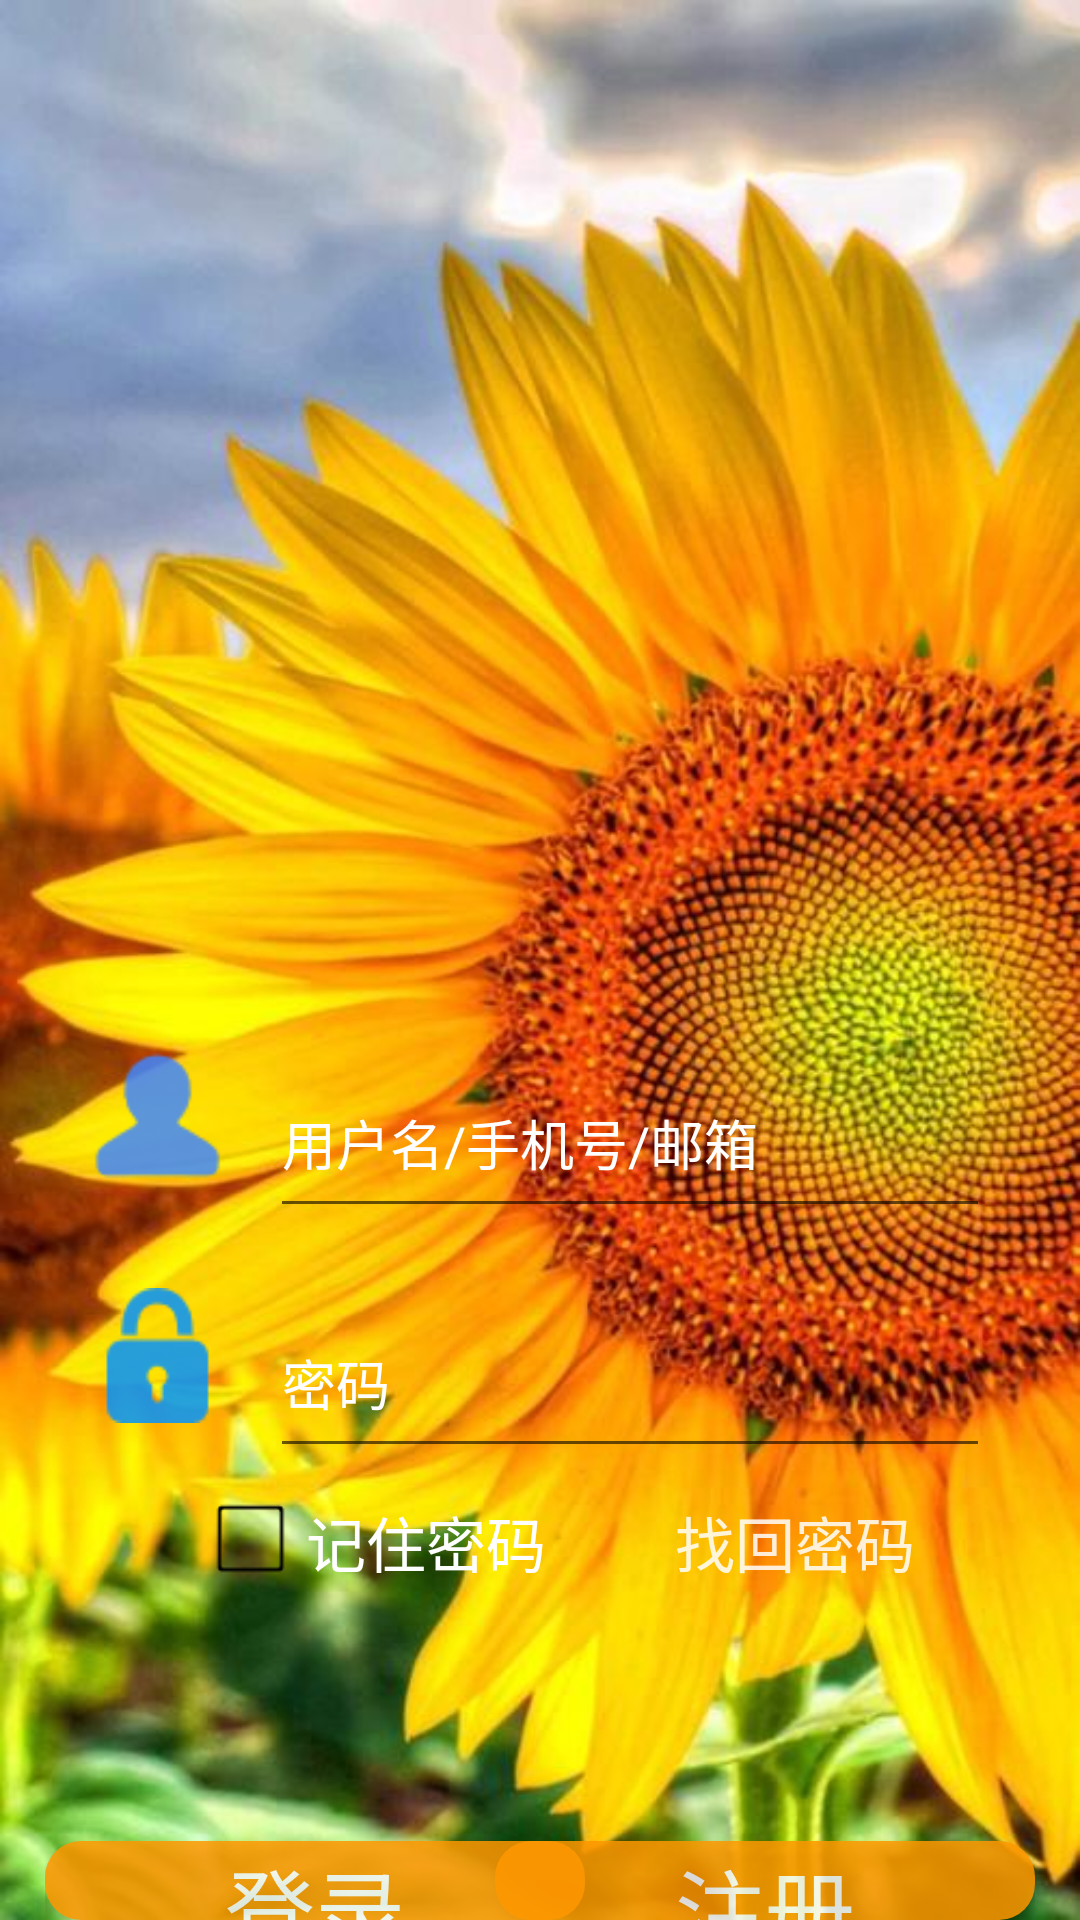

Where to tap for icons on this 1080 × 1920 app screen, as [x,y]:
password: [157,1355]
unrem: [250,1538]
user: [157,1115]
